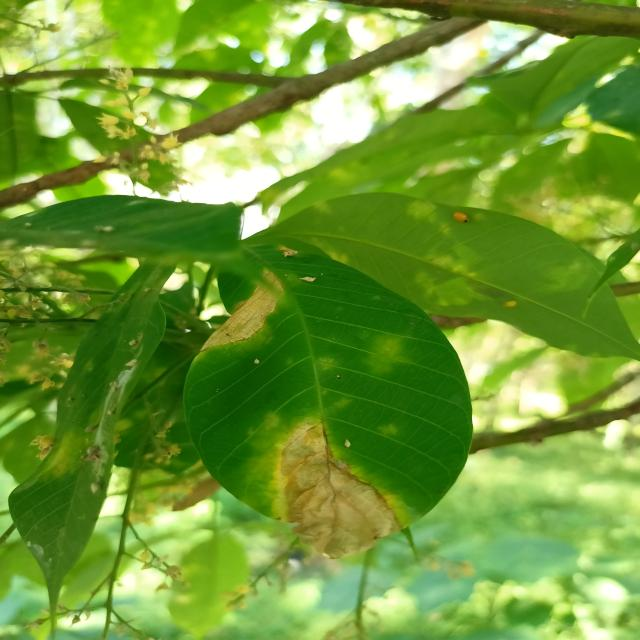Leaf-Blight: (279, 424, 402, 559), (200, 269, 286, 350), (301, 274, 320, 284), (252, 359, 263, 365)
